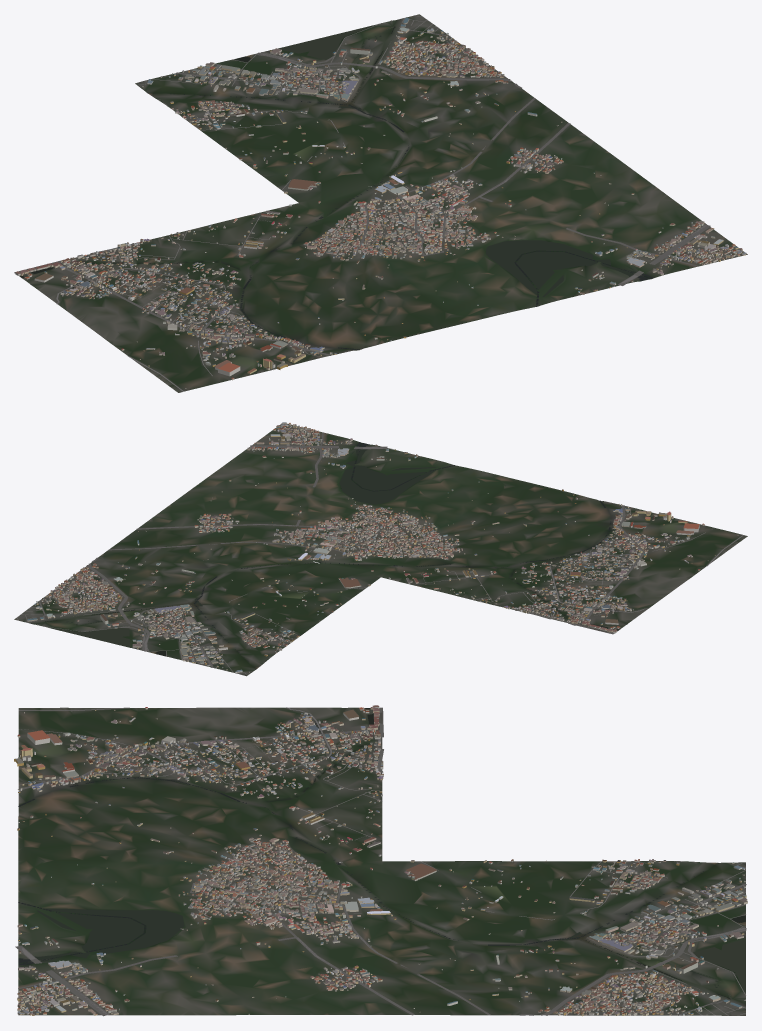
3 views of the same model, one above another, from view 1: azimuth 30°, elevation 25°; view 2: azimuth 150°, elevation 25°; view 3: azimuth 270°, elevation 25° (orthographic). The views are drawn at different scales.
Visible parts, largest first — view 1: ground, buildings, roads, water; view 2: ground, buildings, roads, water; view 3: ground, buildings, water, roads.
Boxes of the visible parts, <box> form: ground: <box>14,14,747,392</box>; buildings: <box>15,18,746,388</box>; roads: <box>14,15,730,391</box>; water: <box>20,25,653,350</box>; ground: <box>14,423,747,676</box>; buildings: <box>27,422,738,672</box>; roads: <box>17,426,743,674</box>; water: <box>45,442,619,669</box>; ground: <box>18,707,745,1015</box>; buildings: <box>14,705,747,1016</box>; water: <box>18,708,745,1002</box>; roads: <box>15,707,746,1016</box>.
Bounding box in the file's own units: 2814 × 44.88 × 2828.
